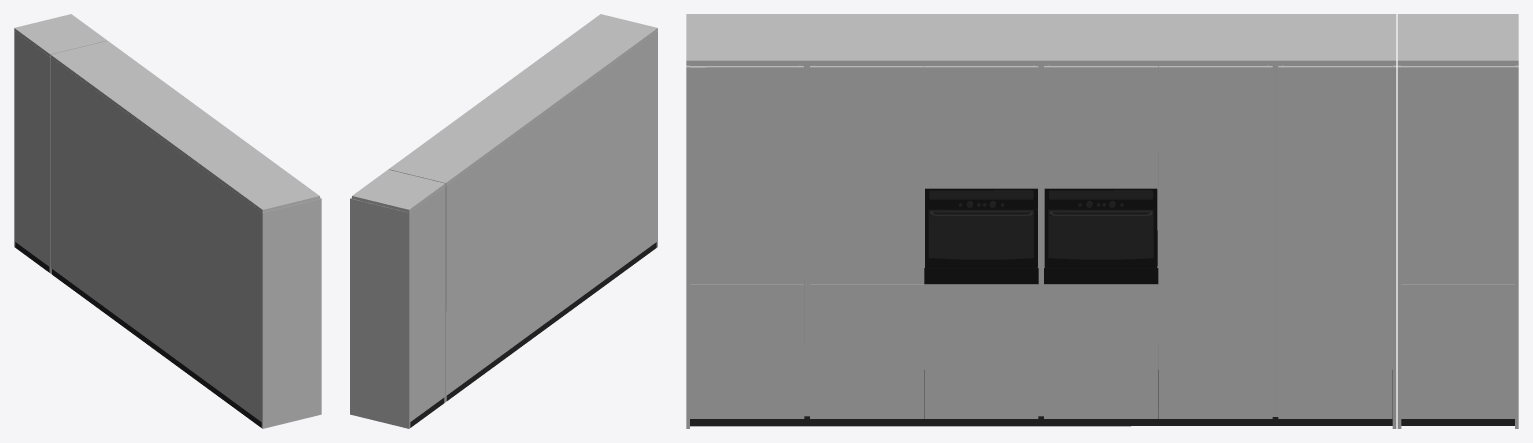
Rendered from Cabinet.FBX.
3 renders of one model, left to right at view 1: azimuth 30°, elevation 25°; view 2: azimuth 150°, elevation 25°; view 3: azimuth 270°, elevation 25°, orthographic. The views are drawn at different scales.
Visible parts, largest first — view 1: Cabinet (×2); view 2: Cabinet (×2); view 3: Cabinet (×2).
Part boxes in pixels (x1,y1,x2,y2): Cabinet (×2): [14, 14, 321, 428]; Cabinet (×2): [350, 14, 657, 428]; Cabinet (×2): [686, 14, 1518, 428].
Bounding box in the file's own units: 2.34 × 7.73 × 15.9.
